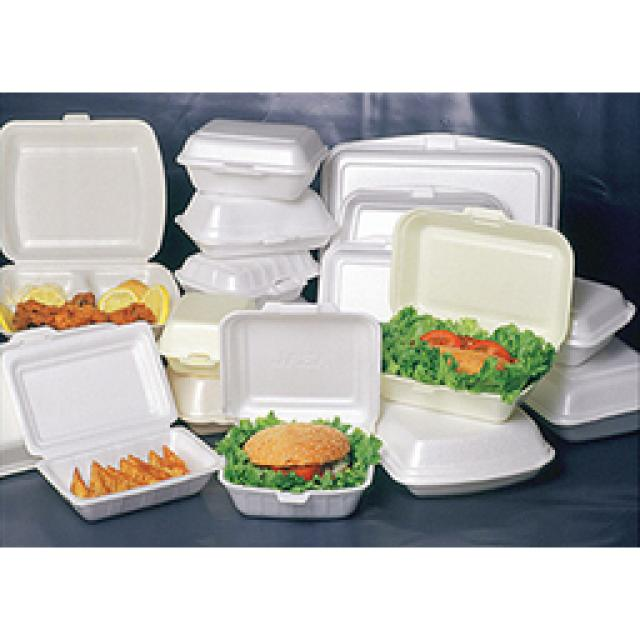styrofoam: (319, 134, 560, 321), (0, 121, 181, 330), (34, 423, 376, 521), (159, 291, 381, 428), (4, 323, 180, 486), (176, 119, 335, 299), (388, 207, 572, 347), (379, 376, 557, 498), (525, 278, 640, 441)
